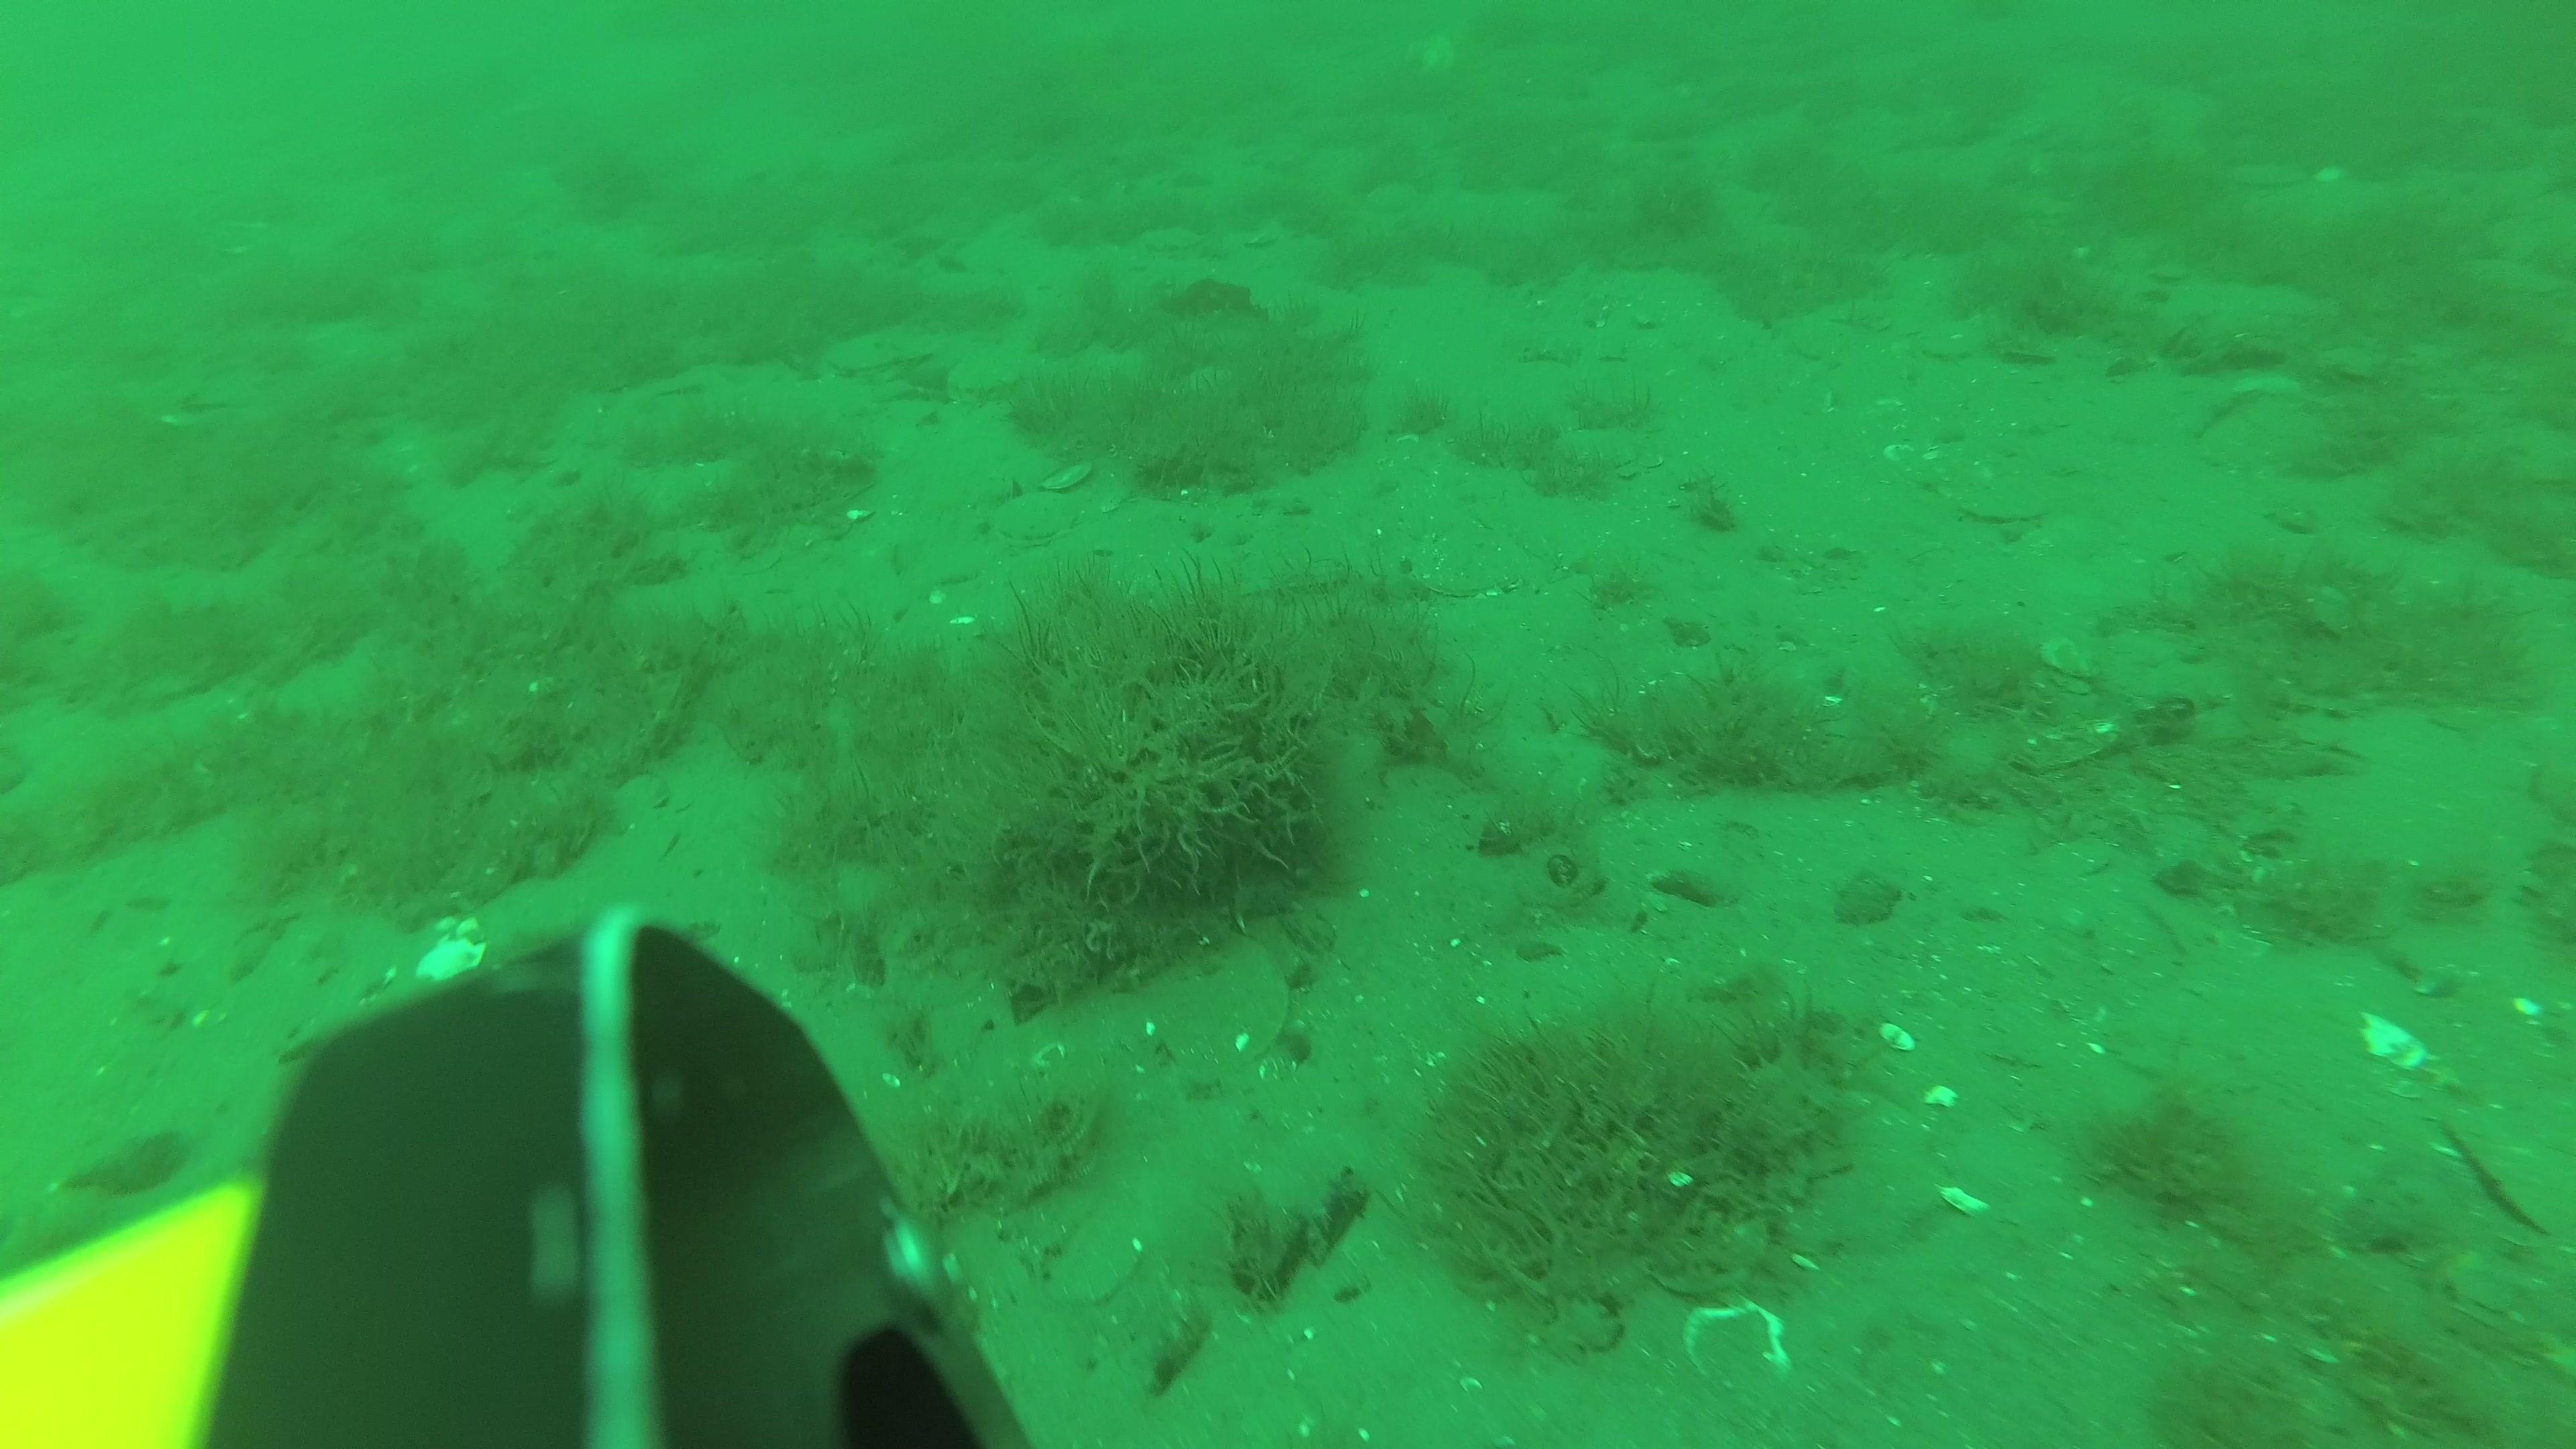scallop: (1164, 938, 1283, 1079), (1688, 1299, 1794, 1401), (1051, 1223, 1145, 1304), (996, 497, 1077, 548), (1971, 481, 2051, 525)
